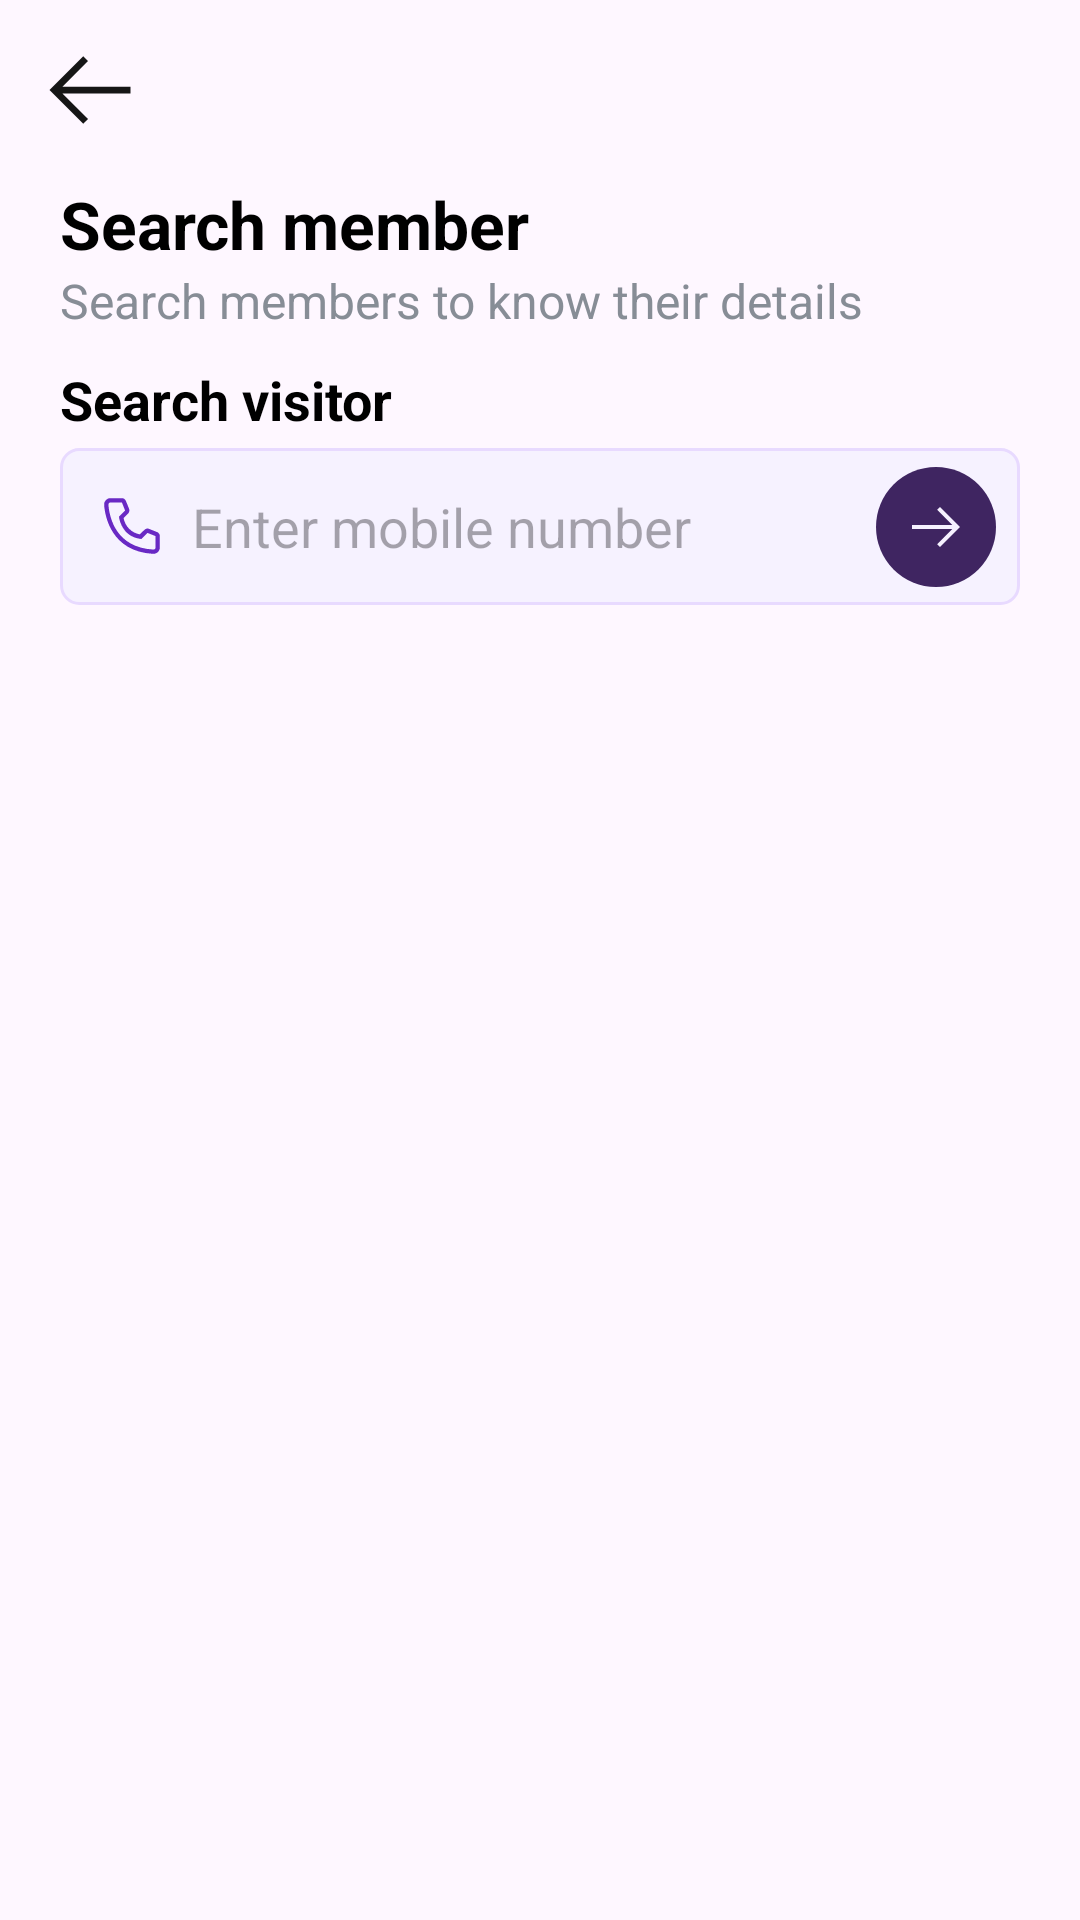

Icons on this 1080w x 1920h Android screen, each with its box as (x1, y1, x2, y2):
back: (49, 56, 131, 124)
search next: (876, 467, 996, 587)
